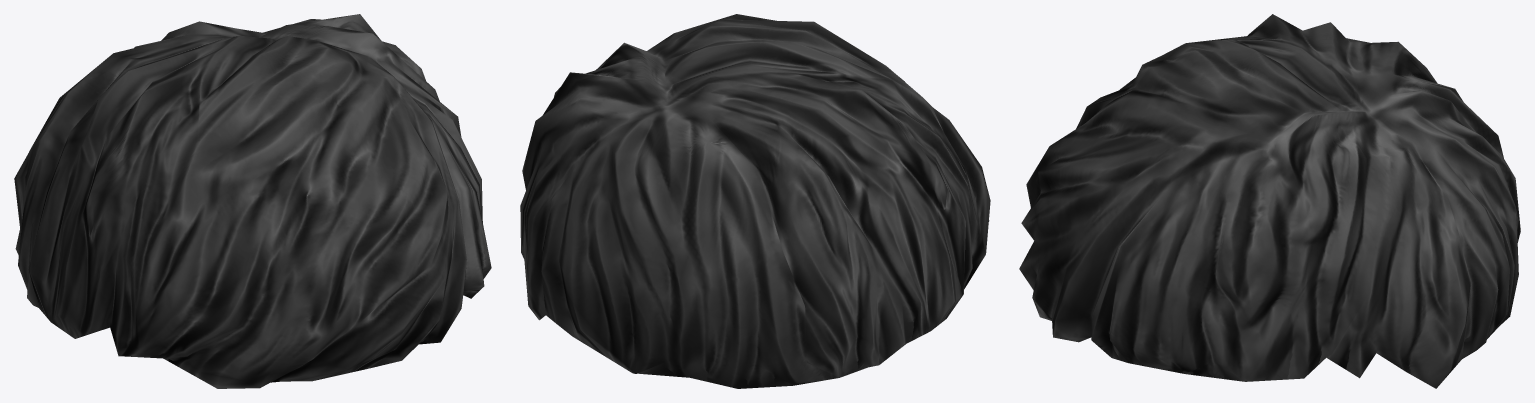
The model's file is AF_M_hair_20.fbx.
The picture shows the model from 3 angles, left to right: view 1: azimuth 30°, elevation 25°; view 2: azimuth 150°, elevation 25°; view 3: azimuth 270°, elevation 25°; orthographic projection. The views are drawn at different scales.
Visible parts, largest first — view 1: AF_M_hair_20; view 2: AF_M_hair_20; view 3: AF_M_hair_20.
Boxes of the visible parts, left/top/right/bottom form: AF_M_hair_20: left=14, top=14, right=491, bottom=388; AF_M_hair_20: left=520, top=14, right=990, bottom=388; AF_M_hair_20: left=1019, top=14, right=1520, bottom=388.
Size of the model in its own units: 709 by 436 by 742.
